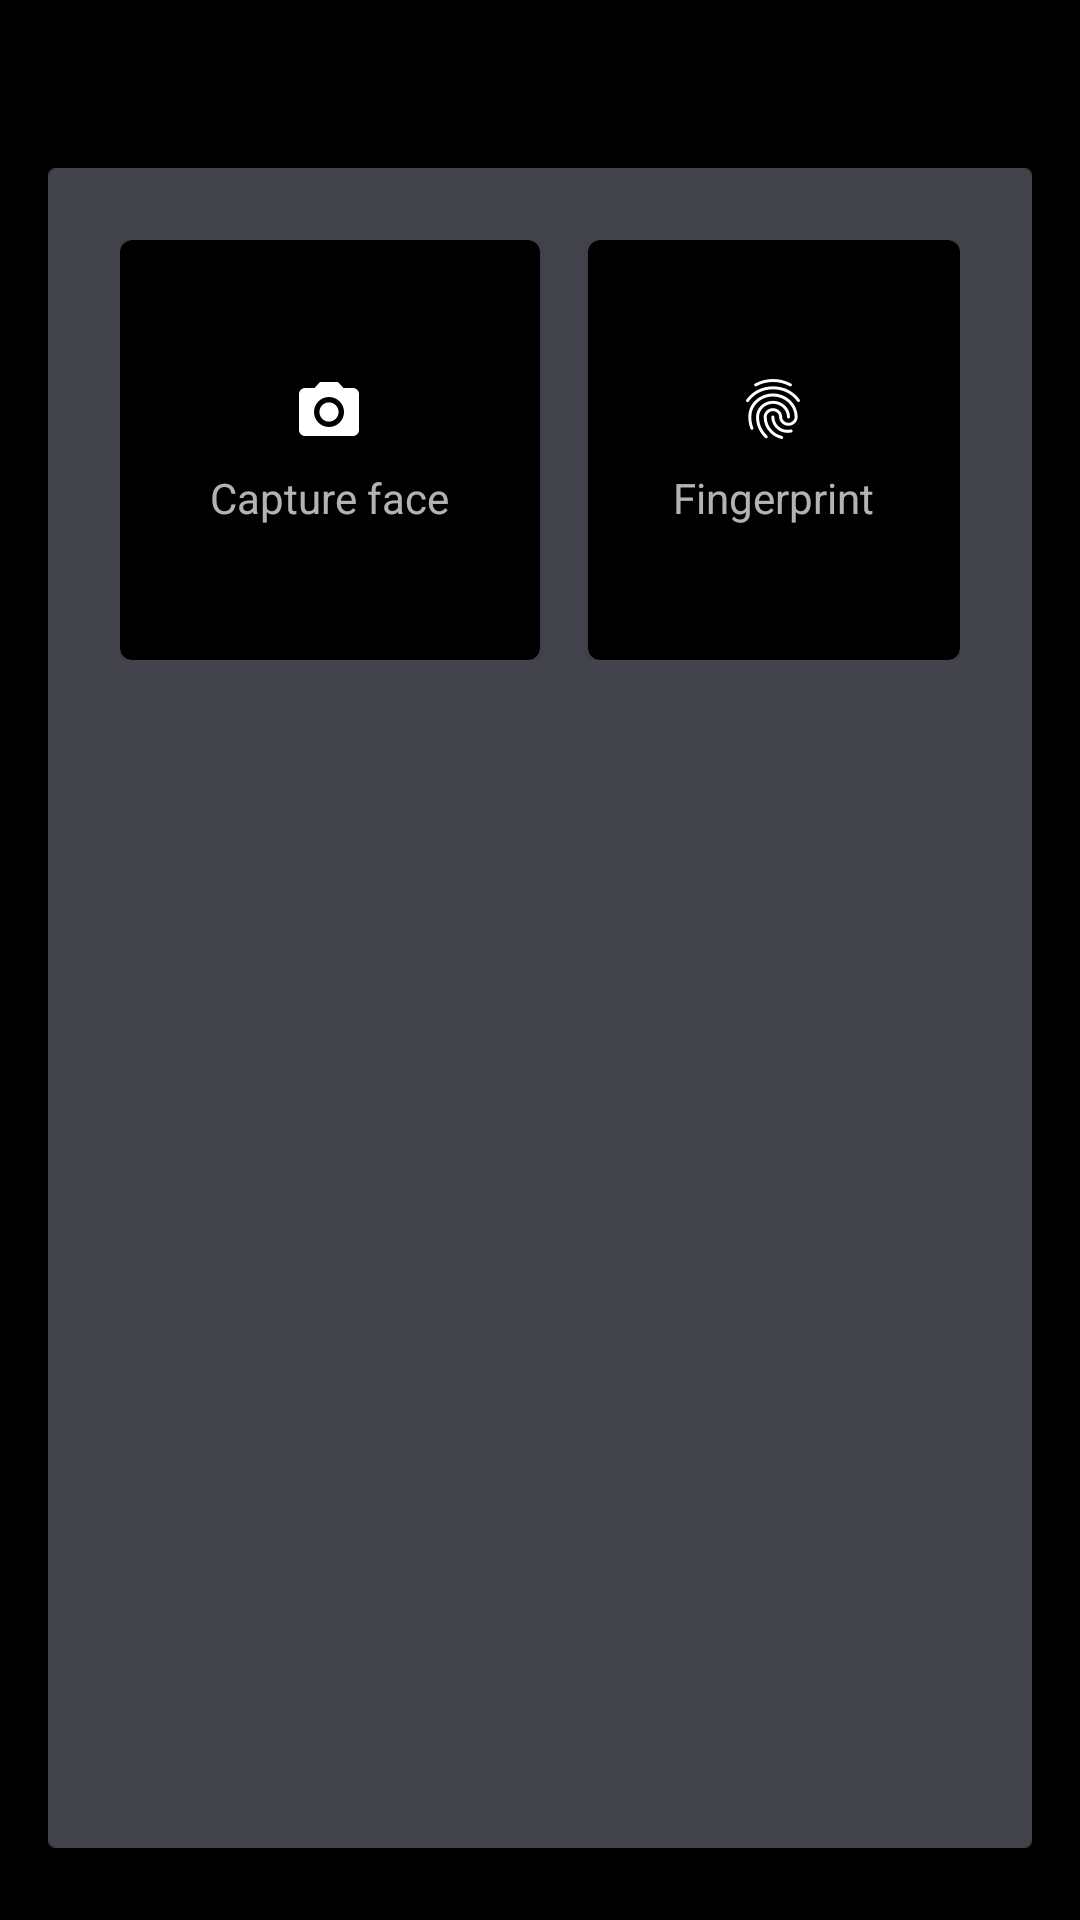

Locate icon controls on the screen. Image size 1080 × 1920, boxes as (x1=x1, y1=y1, x2=x2, y2=y2).
camera: (x1=299, y1=382, x2=359, y2=436)
